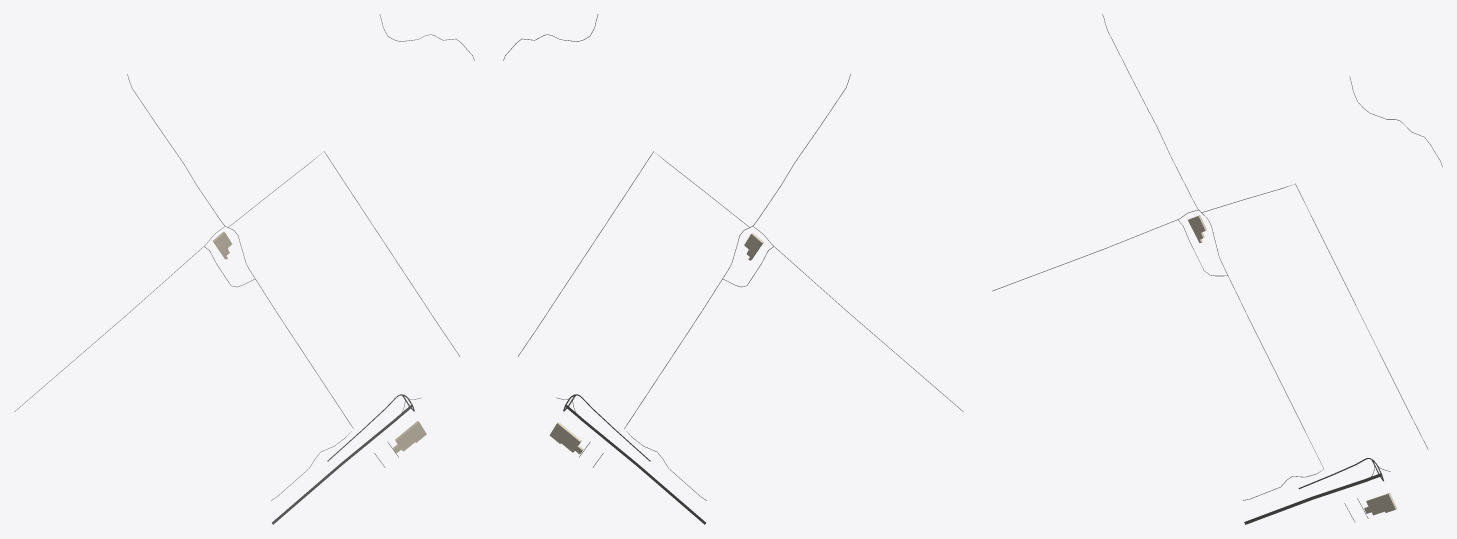
File: historic-palestine-07_27_3491_3210.glb
The picture shows the model from 3 angles, left to right: view 1: azimuth 30°, elevation 25°; view 2: azimuth 150°, elevation 25°; view 3: azimuth 330°, elevation 25°; orthographic projection. The views are drawn at different scales.
Visible parts, largest first — view 1: Road .004, Building_; view 2: Road .004, Building_; view 3: Road .004.
Boxes of the visible parts, bbox=[...] form: Road .004: bbox=[127, 74, 353, 500]; Building_: bbox=[393, 421, 426, 452]; Road .004: bbox=[624, 74, 850, 500]; Building_: bbox=[549, 422, 583, 454]; Road .004: bbox=[1102, 14, 1323, 500].
Bounding box in the file's own units: 1295 × 1308 × 8.7.
